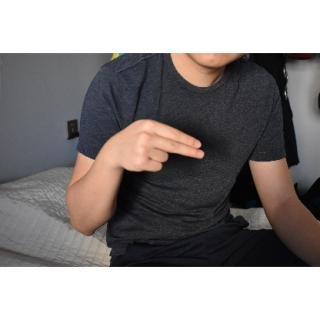AYN: (103, 115, 207, 175)
